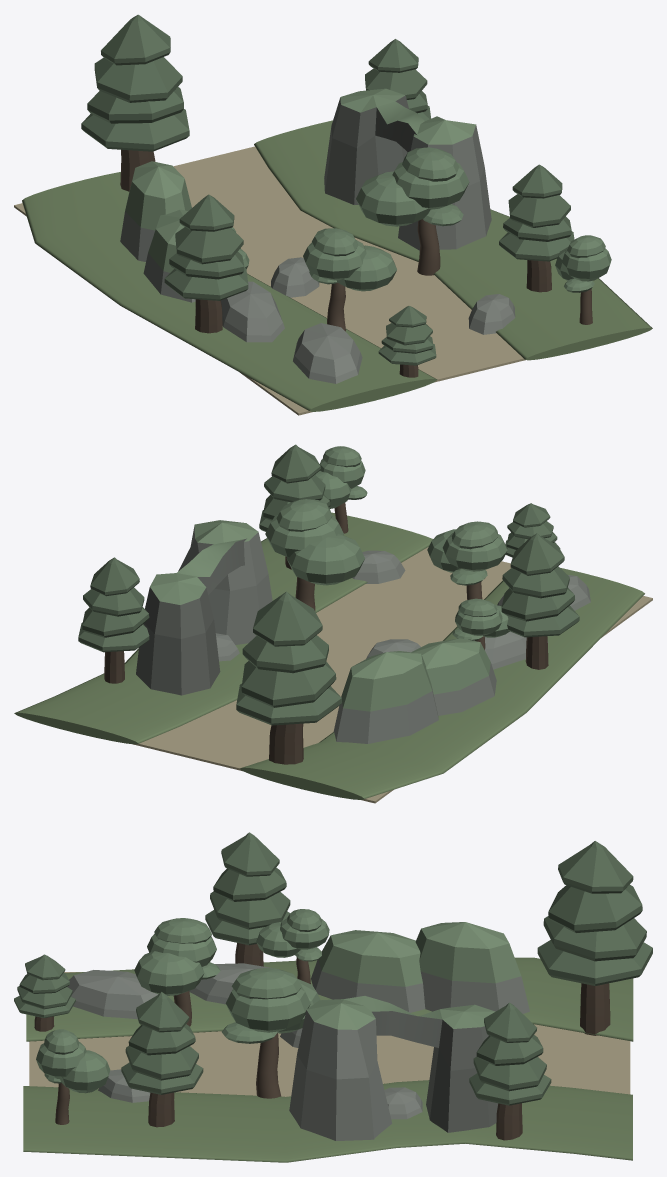
The model's file is exp-land.fbx.
3 views of the same model, one above another, from view 1: azimuth 30°, elevation 25°; view 2: azimuth 150°, elevation 25°; view 3: azimuth 270°, elevation 25° (orthographic). The views are drawn at different scales.
Visible parts, largest first — view 1: floor, pintree:pinetree, pSphere4, tree:tree, pinetree, pinetree2, pSphere3, tree1, ROCK, rock, pinetree1, rock2 (+5 smaller); view 2: floor, pintree:pinetree, pSphere4, ROCK, pinetree, tree:tree, pinetree1, pSphere3, ROCK1, tree1, pinetree2, tree3 (+6 smaller); view 3: floor, pintree:pinetree, pSphere3, pSphere4, ROCK, ROCK1, pinetree, pinetree1, pinetree2, tree:tree, tree1, tree3 (+6 smaller).
Part boxes in pixels (<box>): floor: <box>14,120,652,415</box>; pintree:pinetree: <box>81,14,189,191</box>; pSphere4: <box>324,88,424,204</box>; tree:tree: <box>356,147,469,275</box>; pinetree: <box>164,194,248,333</box>; pinetree2: <box>499,164,574,292</box>; pSphere3: <box>398,116,491,250</box>; tree1: <box>303,228,396,331</box>; ROCK: <box>120,161,191,261</box>; rock: <box>293,323,362,383</box>; pinetree1: <box>365,39,430,120</box>; rock2: <box>221,281,284,342</box>; floor: <box>14,512,652,803</box>; pintree:pinetree: <box>236,591,341,764</box>; pSphere4: <box>136,538,246,695</box>; ROCK: <box>333,651,438,743</box>; pinetree: <box>500,533,579,669</box>; tree:tree: <box>265,499,364,611</box>; pinetree1: <box>78,557,149,683</box>; pSphere3: <box>178,520,272,644</box>; ROCK1: <box>411,638,496,715</box>; tree1: <box>427,521,507,599</box>; pinetree2: <box>259,444,330,569</box>; tree3: <box>315,446,367,533</box>; floor: <box>23,957,633,1162</box>; pintree:pinetree: <box>537,841,652,1035</box>; pSphere3: <box>289,999,392,1140</box>; pSphere4: <box>344,996,498,1132</box>; ROCK: <box>415,922,529,1013</box>; ROCK1: <box>311,930,425,1012</box>; pinetree: <box>205,832,290,966</box>; pinetree1: <box>469,1002,551,1140</box>; pinetree2: <box>121,992,203,1127</box>; tree:tree: <box>222,968,320,1098</box>; tree1: <box>134,918,220,1026</box>; tree3: <box>36,1029,110,1124</box>.
Size of the model in its own units: 64.21 by 29.06 by 84.63.
